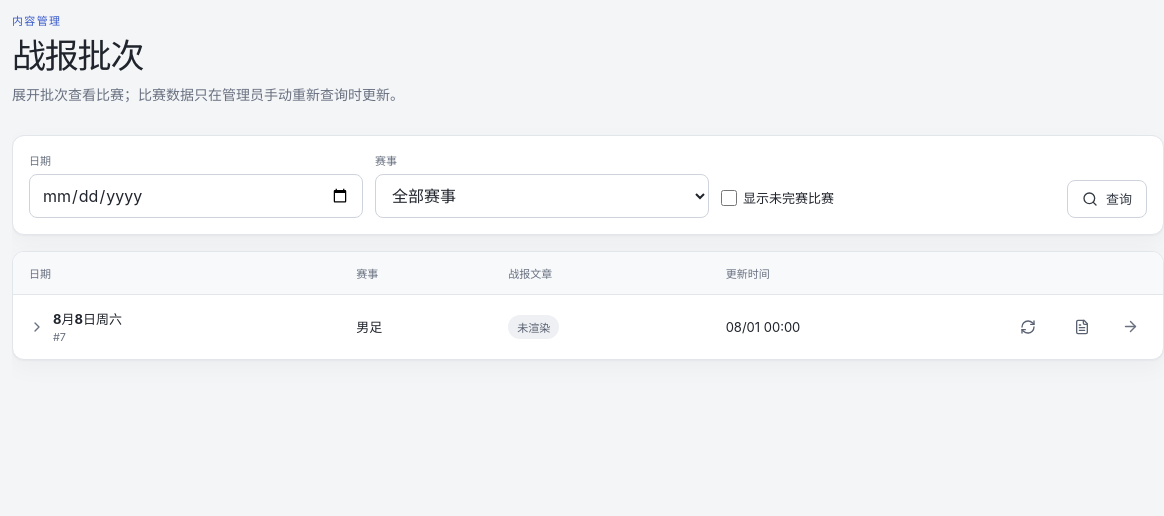
Test: stage 6 report batches › expands from stored data and hides unfinished matches by default
Expected: the button named "渲染文章" is shown, 1059,308 -> 1105,346
Click the button "8月8日".
click(75, 327)  # box 29,309 -> 122,344
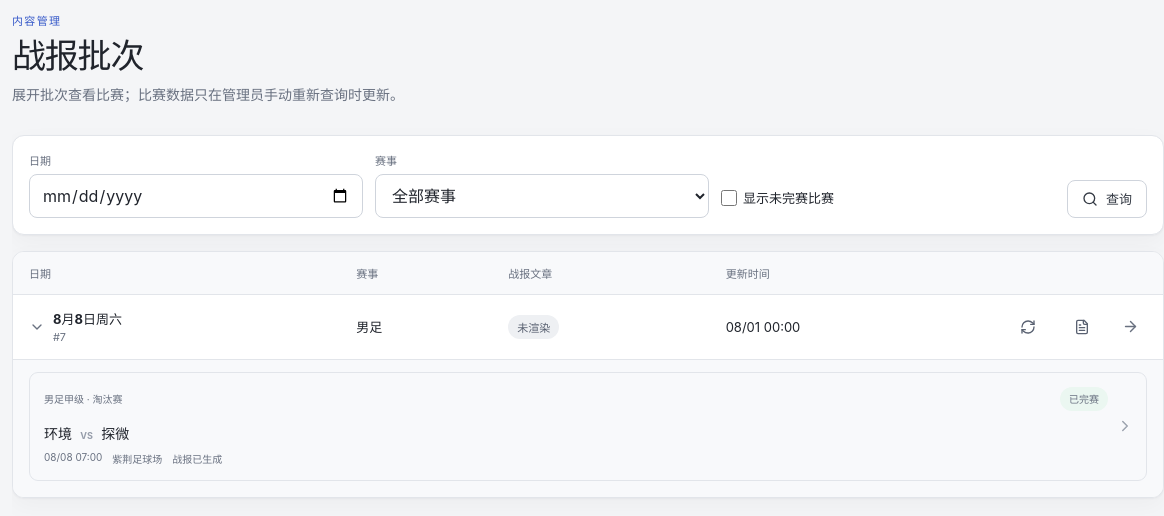
Expected: the link "环境 vs 行健" is not shown
Click the checkbox.
click(729, 198)  # box 721,190 -> 737,206
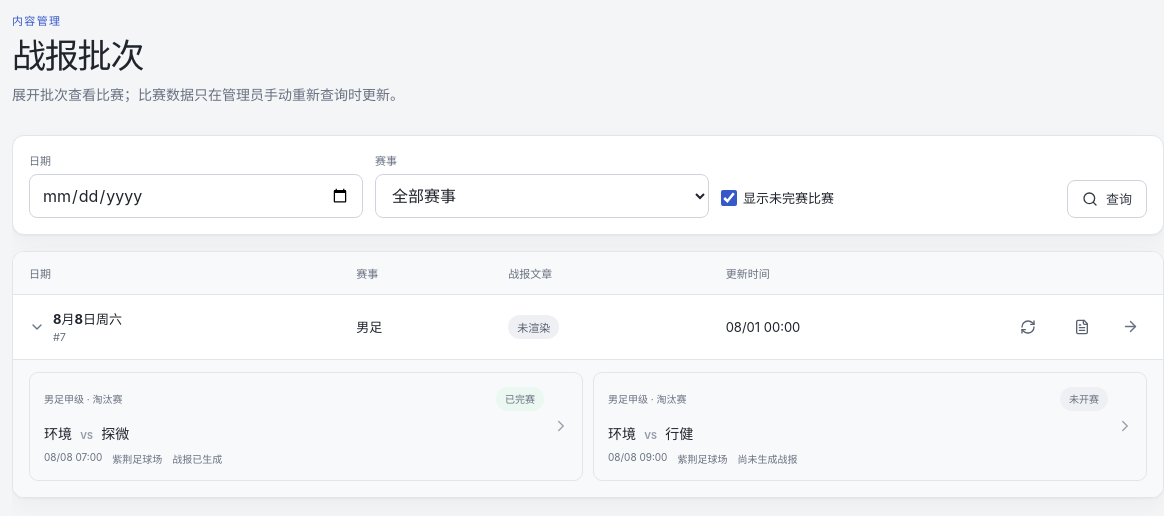
Now the link "男足甲级 · 淘汰赛 未开赛 环境 vs 行健 08/08 09:00 紫荆足球场 尚未生成战报" is shown, box 593,372 -> 1147,480
